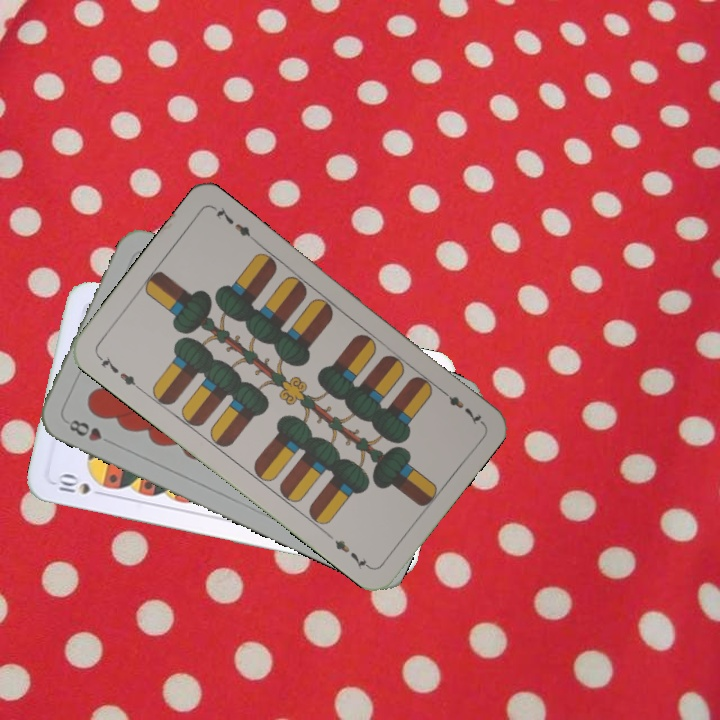E7: (435, 384, 485, 428), (93, 351, 143, 393)
H8: (62, 415, 105, 444)
S10: (50, 471, 94, 497)
